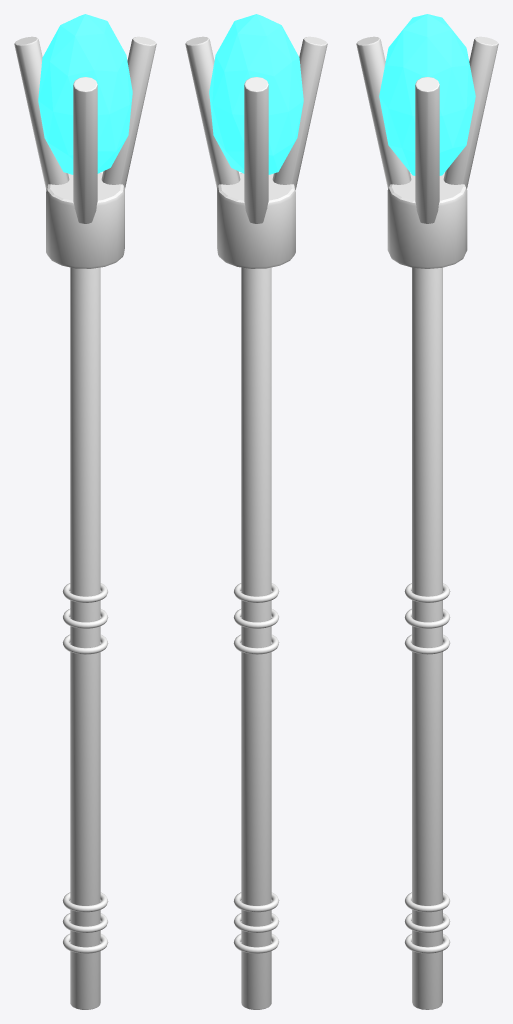
The model's file is SM_AetherStaff.glb.
3 renders of one model, left to right at view 1: azimuth 30°, elevation 25°; view 2: azimuth 150°, elevation 25°; view 3: azimuth 270°, elevation 25°, orthographic.
Visible parts, largest first — view 1: SM_AetherStaff; view 2: SM_AetherStaff; view 3: SM_AetherStaff.
Boxes of the visible parts, x1=… form: SM_AetherStaff: x1=14, y1=14, x2=156, y2=1009; SM_AetherStaff: x1=185, y1=14, x2=327, y2=1009; SM_AetherStaff: x1=356, y1=14, x2=498, y2=1009.
Bounding box in the file's own units: 0.2221 × 1.92 × 0.25.
